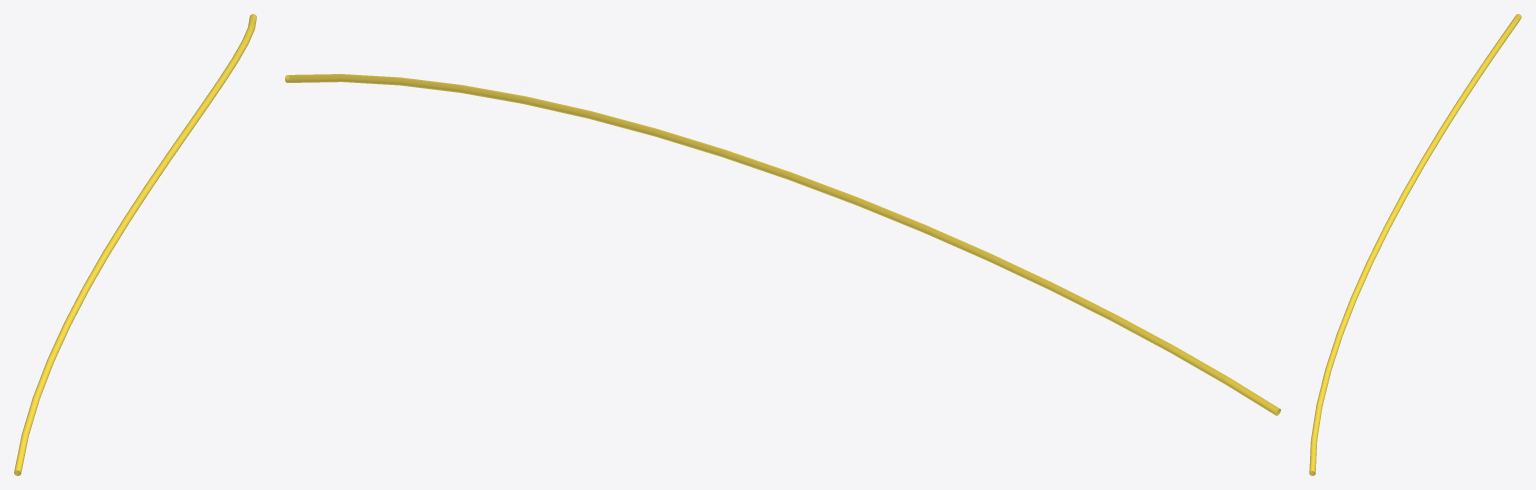
File: Event_17758602_track_85.fbx
3 renders of one model, left to right at view 1: azimuth 90°, elevation 25°; view 2: azimuth 150°, elevation 25°; view 3: azimuth 270°, elevation 25°, orthographic. The views are drawn at different scales.
Visible parts, largest first — view 1: Model; view 2: Model; view 3: Model.
Boxes of the visible parts, x1,y1,x2,y2 form: Model: (14, 14, 256, 475); Model: (285, 74, 1280, 415); Model: (1309, 14, 1521, 475).
Bounding box in the file's own units: 6.38 × 0.5067 × 1.34.
